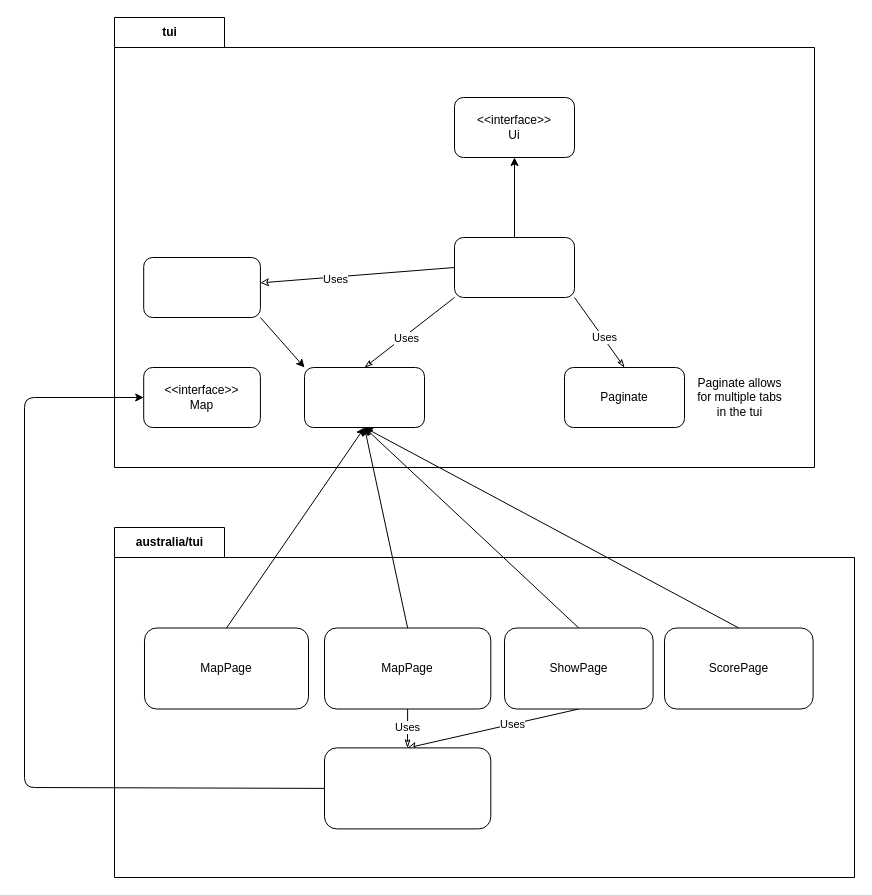
This 872x895 diagram has some shape labels left out. The shapes that lost their labels are listed below. From the top down, each one's centre as x and y in pixels, then its label:
At point 201,287: "<<interface>> Popup".
At point 514,267: "Terminal Ui (Tui)".
At point 364,397: "<<interface>> TuiPage".
At point 407,788: "Map".
